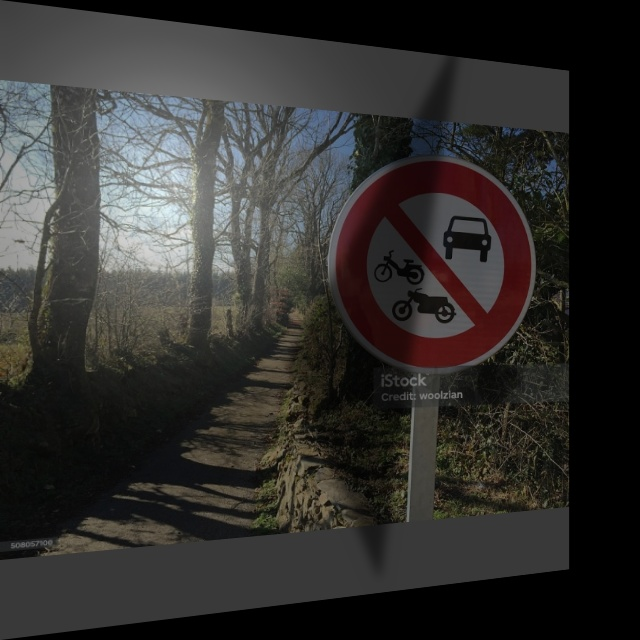All_Motor_Vehicles_Prohibited: (330, 147, 536, 369)
